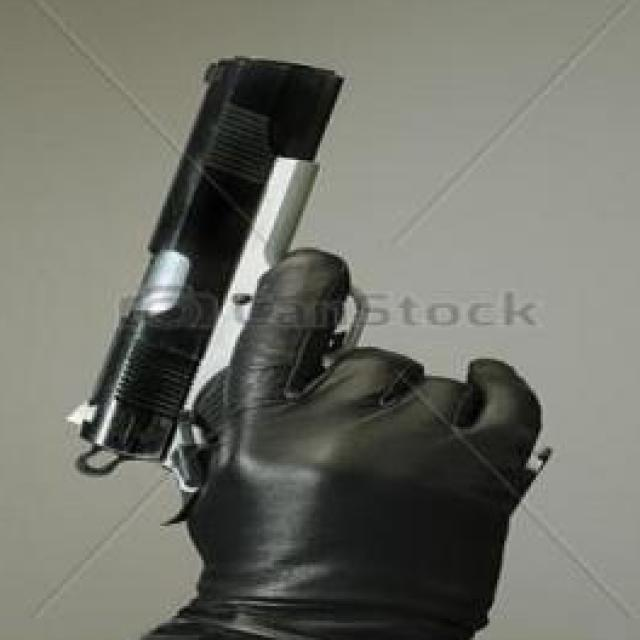pistol: (42, 56, 540, 512)
